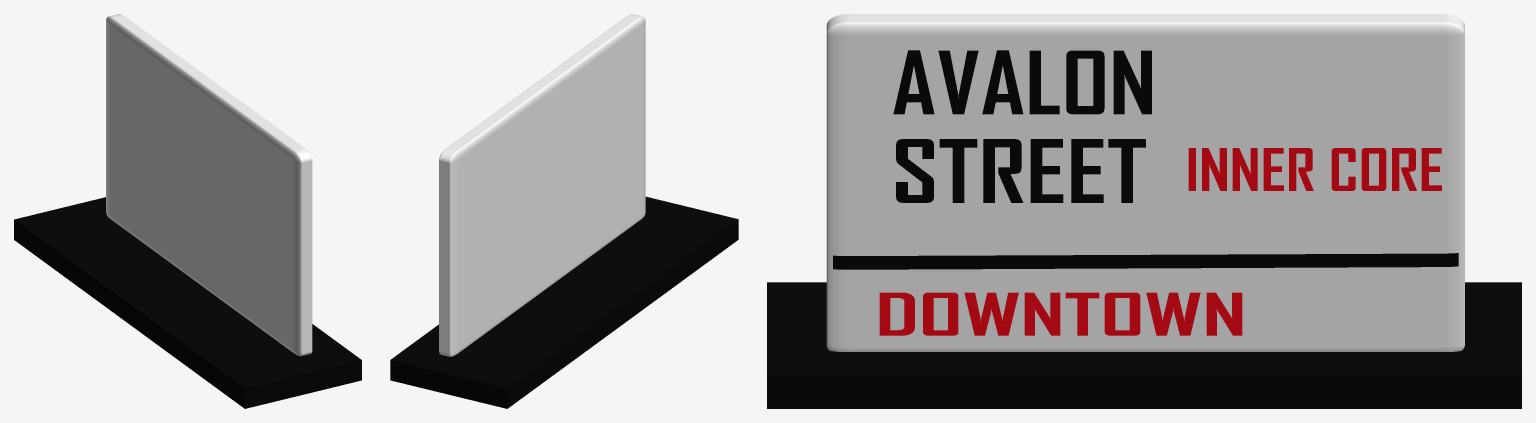
File: uk_styled_street_sign_66.fbx
3 views of the same model, side by side, from view 1: azimuth 30°, elevation 25°; view 2: azimuth 150°, elevation 25°; view 3: azimuth 270°, elevation 25° (orthographic). The views are drawn at different scales.
Visible parts, largest first — view 1: Cube, Cube.001; view 2: Cube, Cube.001; view 3: Cube, Cube.001, Text.002, Text, Text.001, Text.003.
Boxes of the visible parts, x1=… form: Cube: x1=106, y1=14, x2=312, y2=356; Cube.001: x1=14, y1=197, x2=361, y2=408; Cube: x1=439, y1=14, x2=645, y2=356; Cube.001: x1=390, y1=196, x2=738, y2=408; Cube: x1=826, y1=14, x2=1464, y2=351; Cube.001: x1=767, y1=282, x2=1521, y2=408; Text.002: x1=879, y1=292, x2=1242, y2=335; Text: x1=893, y1=50, x2=1151, y2=114; Text.001: x1=896, y1=139, x2=1145, y2=202; Text.003: x1=1188, y1=148, x2=1441, y2=190.
Bounding box in the file's own units: 12 × 21.71 × 41.07.
